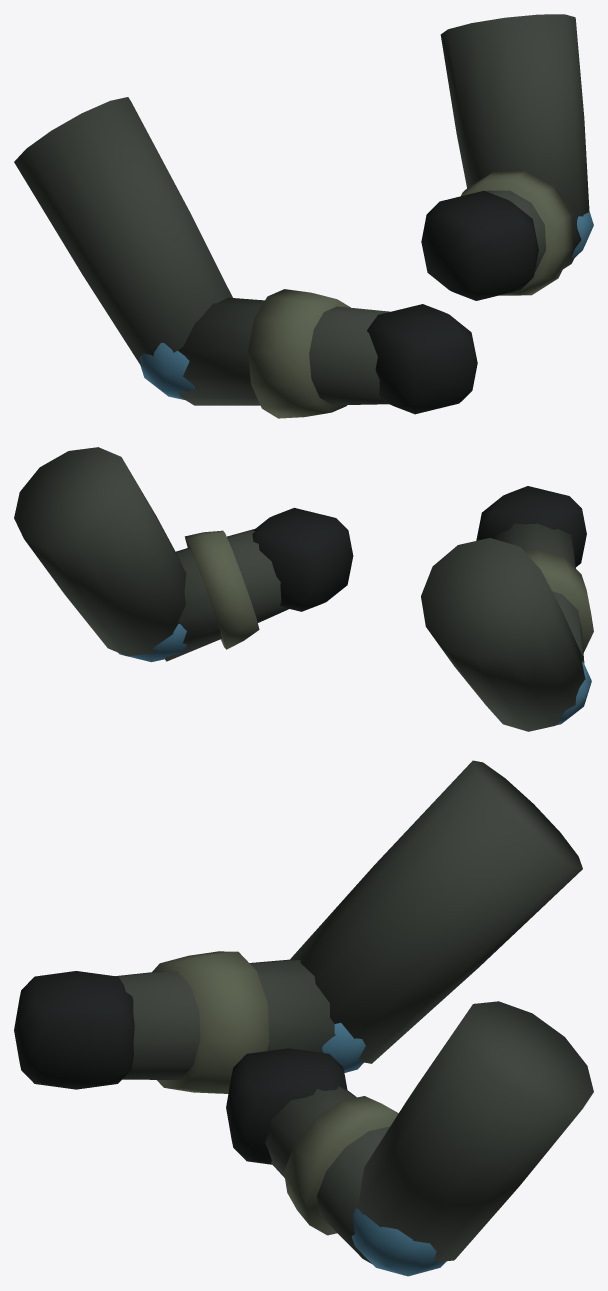
Rendered from Bastion_Gunner_Arms.obj.
The picture shows the model from 3 angles, top to bottom: view 1: azimuth 30°, elevation 25°; view 2: azimuth 150°, elevation 25°; view 3: azimuth 270°, elevation 25°; orthographic projection. The views are drawn at different scales.
Visible parts, largest first — view 1: LeftUpperArm, RightUpperArm, LeftForearm, RightGlove, LeftGlove, LeftBracer, RightBracer, LeftElbowPad, RightForearm; view 2: RightUpperArm, LeftUpperArm, RightGlove, RightForearm, RightBracer, LeftGlove, LeftForearm, LeftBracer, RightElbowPad, LeftElbowPad; view 3: LeftUpperArm, RightUpperArm, LeftGlove, LeftForearm, LeftBracer, RightGlove, RightForearm, RightBracer, RightElbowPad, LeftElbowPad.
Boxes of the visible parts, x1,y1,x2,y2 form: LeftUpperArm: (14,97,232,367); RightUpperArm: (440,14,589,216); LeftForearm: (178,297,390,405); RightGlove: (421,190,538,300); LeftGlove: (367,304,477,414); LeftBracer: (248,289,350,418); RightBracer: (461,171,572,295); LeftElbowPad: (139,342,194,399); RightForearm: (485,190,581,272); RightUpperArm: (14,447,186,656); LeftUpperArm: (421,538,585,731); RightGlove: (252,507,353,611); RightForearm: (164,529,288,661); RightBracer: (184,530,259,649); LeftGlove: (476,486,586,566); LeftForearm: (495,523,584,663); LeftBracer: (524,549,593,652); RightElbowPad: (118,624,186,662); LeftElbowPad: (556,661,591,725); LeftUpperArm: (290,760,582,1063); RightUpperArm: (357,1001,593,1262); LeftGlove: (14,971,134,1089); LeftForearm: (115,959,335,1079); LeftBracer: (152,951,269,1093); RightGlove: (226,1048,347,1164); RightForearm: (265,1086,389,1263); RightBracer: (284,1096,398,1235); RightElbowPad: (351,1208,446,1276); LeftElbowPad: (322,1023,365,1072).
Bounding box in the file's own units: 0.783 × 0.3462 × 0.6291.
Materials: 1 (1 with a texture image).
